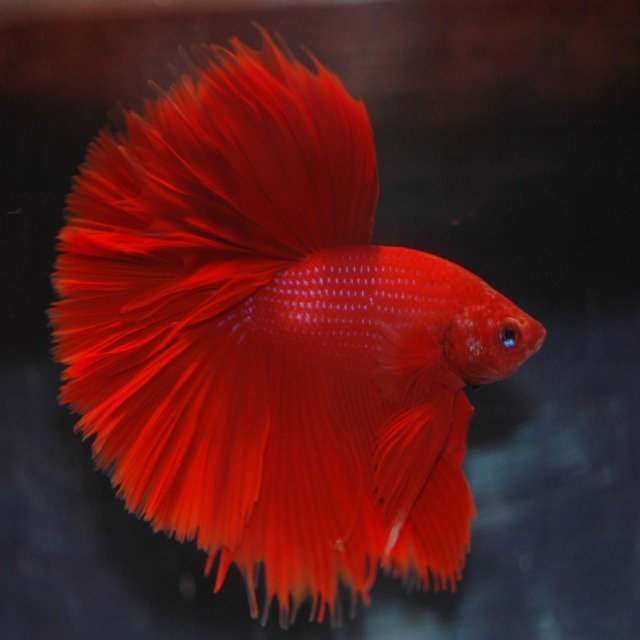Fish: (19, 63, 538, 612)
